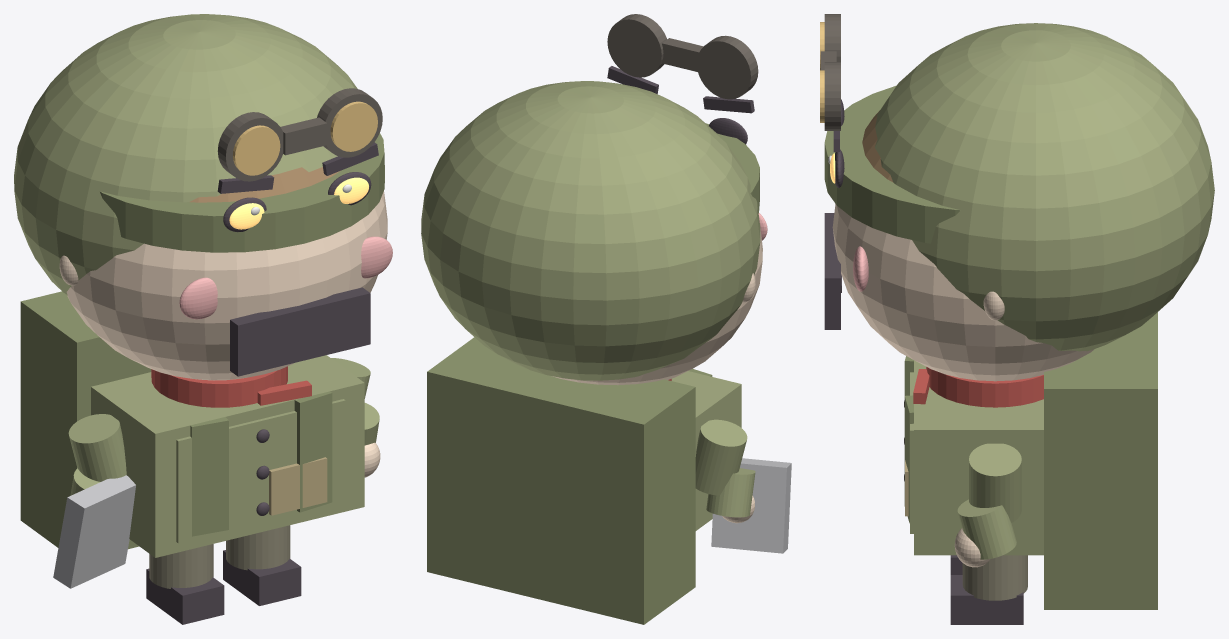
File: scavenger.glb
The picture shows the model from 3 angles, left to right: view 1: azimuth 30°, elevation 25°; view 2: azimuth 150°, elevation 25°; view 3: azimuth 270°, elevation 25°; orthographic projection. The views are drawn at different scales.
Parts seen in each view (by area): view 1: Hood, Head, Coat, Backpack, HoodRim, CoatFront, Mask, Scrap, Strap_L, ScarfRing, UpperArm_L, Strap_R (+19 smaller); view 2: Hood, Backpack, Scrap, UpperArm_L, Goggle_L, Coat, Goggle_R, Head, Forearm_L, HoodRim, GoggleBridge, Brow_L (+2 smaller); view 3: Hood, Backpack, Head, Coat, HoodRim, UpperArm_R, ScarfRing, Leg_R, Shoe_R, Forearm_R, Mask, Goggle_R (+5 smaller).
Boxes of the visible parts, x1=… form: Hood: x1=14, y1=14, x2=384, y2=295; Head: x1=66, y1=191, x2=387, y2=380; Coat: x1=91, y1=355, x2=364, y2=557; Backpack: x1=20, y1=291, x2=151, y2=549; HoodRim: x1=99, y1=133, x2=384, y2=252; CoatFront: x1=176, y1=399, x2=345, y2=543; Mask: x1=230, y1=287, x2=370, y2=376; Scrap: x1=53, y1=475, x2=135, y2=588; Strap_L: x1=190, y1=417, x2=228, y2=536; ScarfRing: x1=151, y1=366, x2=287, y2=407; UpperArm_L: x1=68, y1=414, x2=126, y2=481; Strap_R: x1=294, y1=391, x2=332, y2=512; Hood: x1=421, y1=81, x2=760, y2=380; Backpack: x1=427, y1=337, x2=695, y2=624; Scrap: x1=711, y1=458, x2=791, y2=553; UpperArm_L: x1=695, y1=419, x2=747, y2=495; Goggle_L: x1=696, y1=35, x2=758, y2=99; Coat: x1=671, y1=371, x2=741, y2=530; Goggle_R: x1=607, y1=14, x2=667, y2=77; Head: x1=552, y1=229, x2=762, y2=385; Forearm_L: x1=706, y1=468, x2=755, y2=517; HoodRim: x1=705, y1=123, x2=759, y2=212; GoggleBridge: x1=662, y1=38, x2=703, y2=71; Brow_L: x1=703, y1=96, x2=754, y2=113; Hood: x1=874, y1=23, x2=1214, y2=351; Backpack: x1=1044, y1=312, x2=1157, y2=609; Head: x1=832, y1=204, x2=1094, y2=381; Coat: x1=914, y1=360, x2=1043, y2=555; HoodRim: x1=824, y1=85, x2=960, y2=243; UpperArm_R: x1=969, y1=443, x2=1021, y2=522; ScarfRing: x1=926, y1=367, x2=1043, y2=407; Leg_R: x1=962, y1=555, x2=1027, y2=600; Shoe_R: x1=950, y1=575, x2=1023, y2=624; Forearm_R: x1=957, y1=499, x2=1016, y2=559; Mask: x1=824, y1=213, x2=840, y2=329; Goggle_R: x1=824, y1=62, x2=840, y2=130.
Size of the model in its own units: 1.3 by 2 by 1.29.
